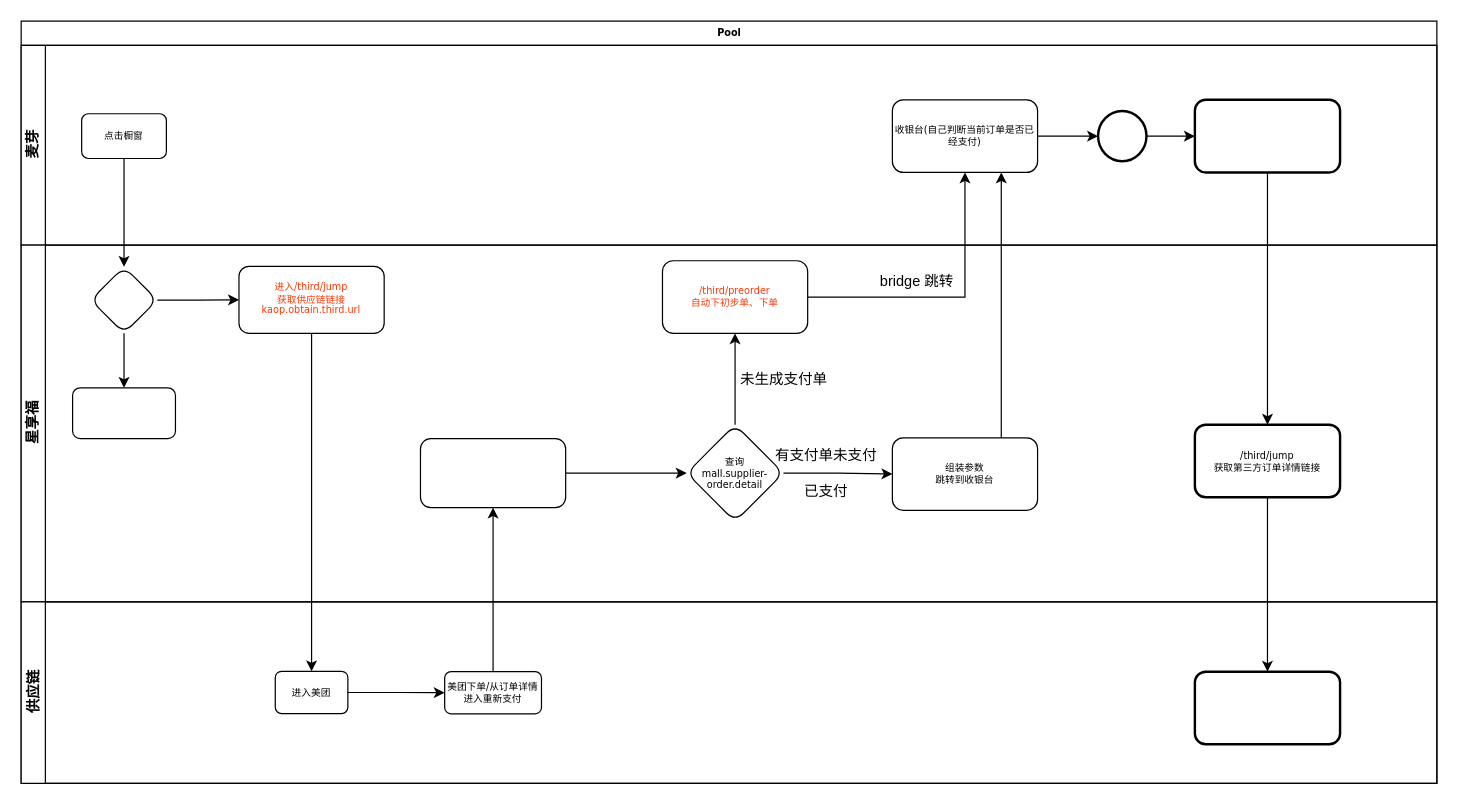
Some shapes in this 1458 by 805 pixel diagram are drawn without their labels. Each missing label, with the centre of its shape:
"写入登录态" goes at point 123,413.
"支付" goes at point 1121,135.
"登录态" goes at point 123,299.
"美团订单详情" goes at point 1267,707.
"订单详情" goes at point 1267,135.
"进入/third/order 判断当前第三方订单是否有支付单号" goes at point 492,472.
